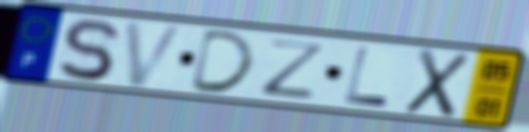D: (186, 28, 258, 96)
L: (342, 44, 393, 109)
S: (55, 16, 121, 83)
V: (121, 19, 190, 90)
X: (400, 46, 474, 121)
Z: (260, 37, 331, 101)
